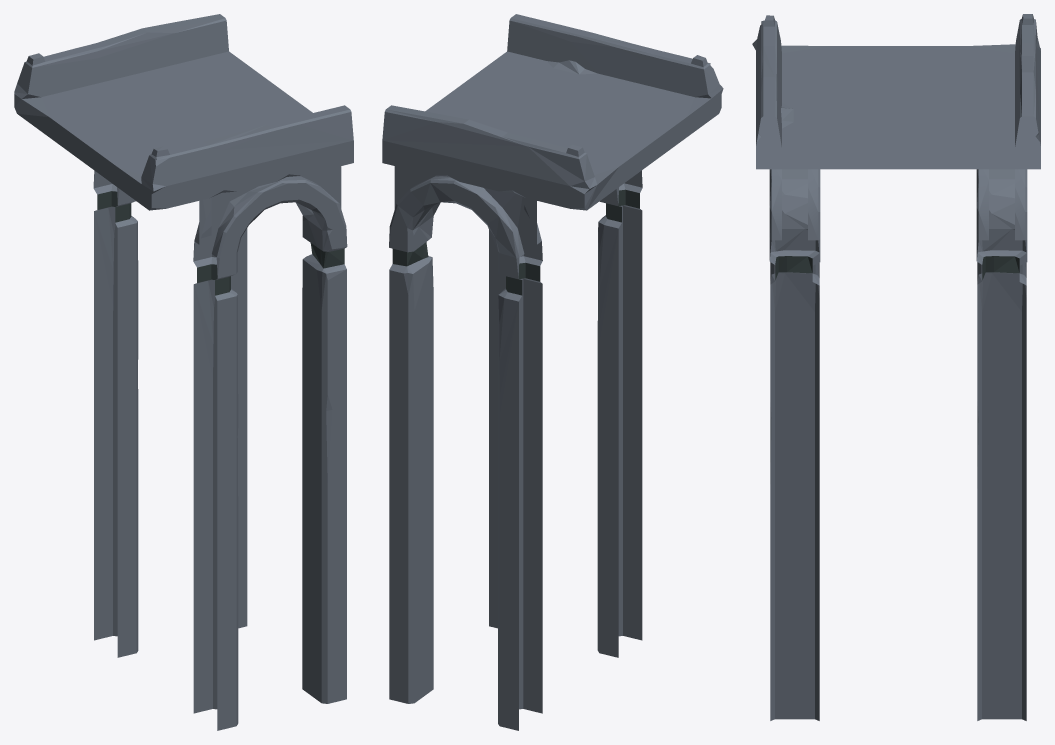
File: Bridge_Start.fbx
3 views of the same model, side by side, from view 1: azimuth 30°, elevation 25°; view 2: azimuth 150°, elevation 25°; view 3: azimuth 270°, elevation 25° (orthographic). The views are drawn at different scales.
Parts seen in each view (by area): view 1: Bridge_Start; view 2: Bridge_Start; view 3: Bridge_Start.
Part boxes in pixels (box(x1,y1,x2,y2)): Bridge_Start: box(14, 14, 353, 730); Bridge_Start: box(382, 14, 723, 730); Bridge_Start: box(752, 14, 1040, 720).
Bounding box in the file's own units: 474 × 1322 × 558.
